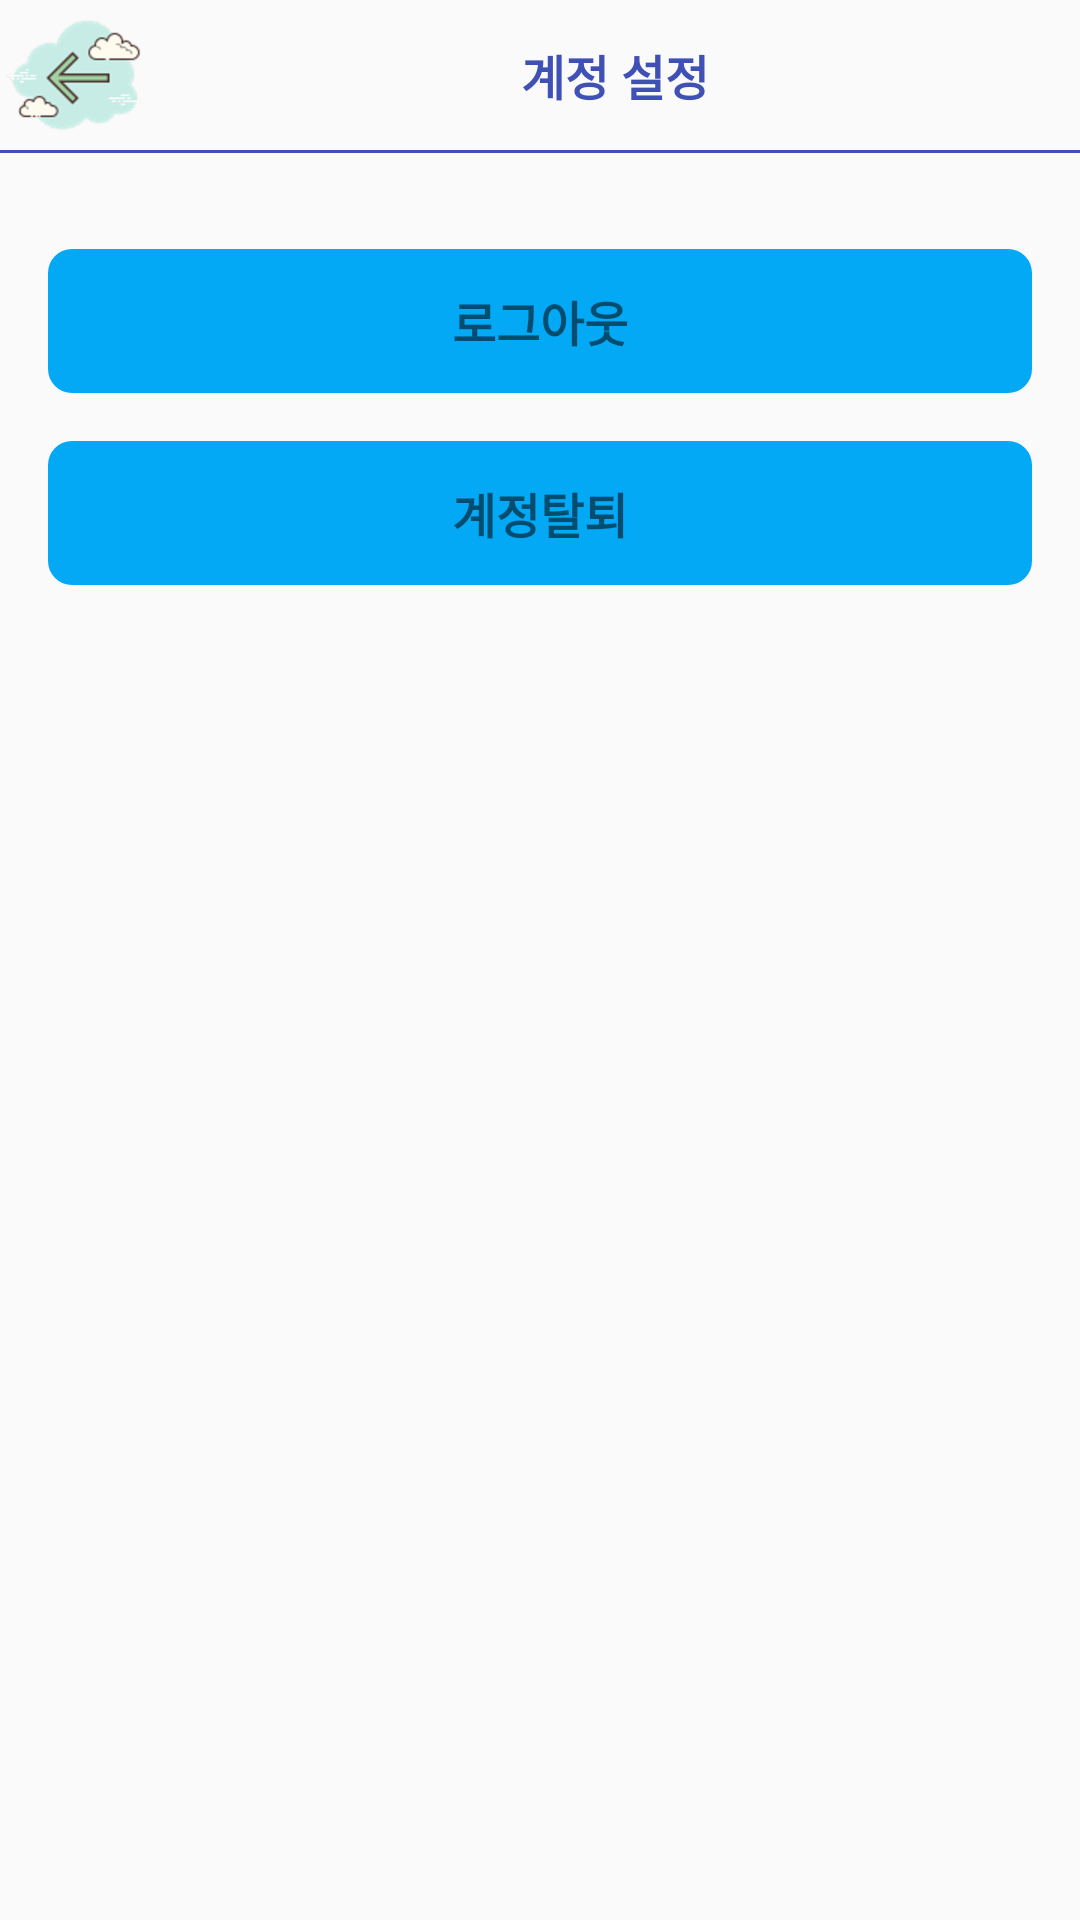

Where icons sit on this 1080*1920 app screen, as {"x1": x1, "y1": y1, "x2": x2, "y2": y2}:
back arrow: {"x1": 13, "y1": 21, "x2": 140, "y2": 129}
